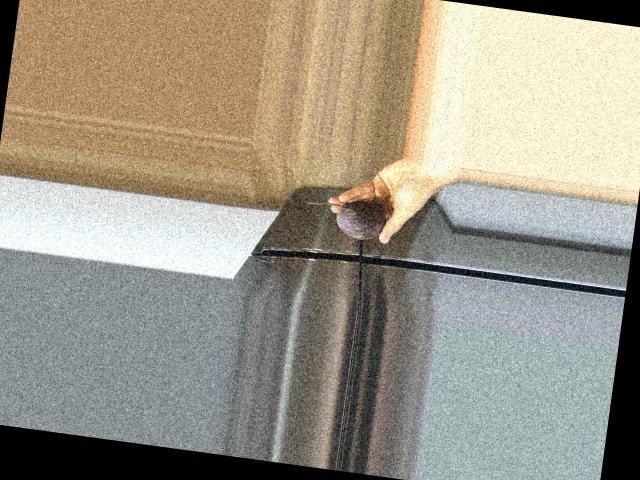beet: (301, 194, 387, 242)
